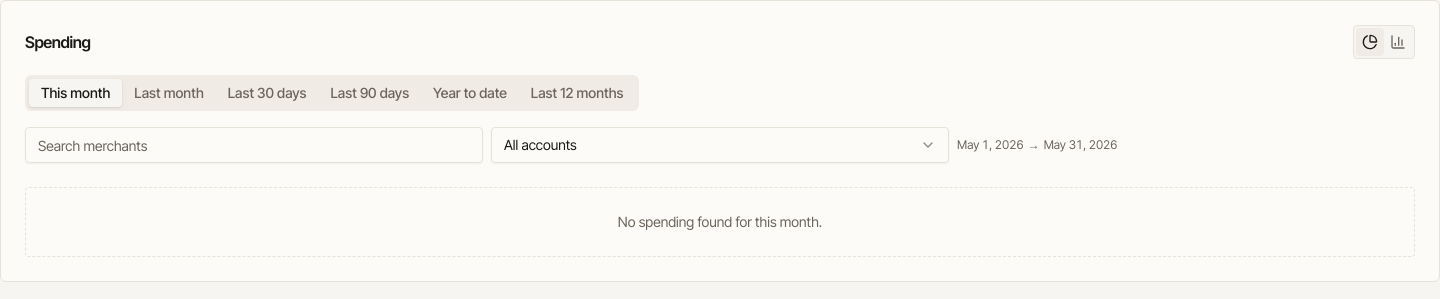
SpendingWidget › switching the range tab recomputes the date bounds
Click the tab "Last 30 days".
click(267, 93)  # box [216,79,319,107]
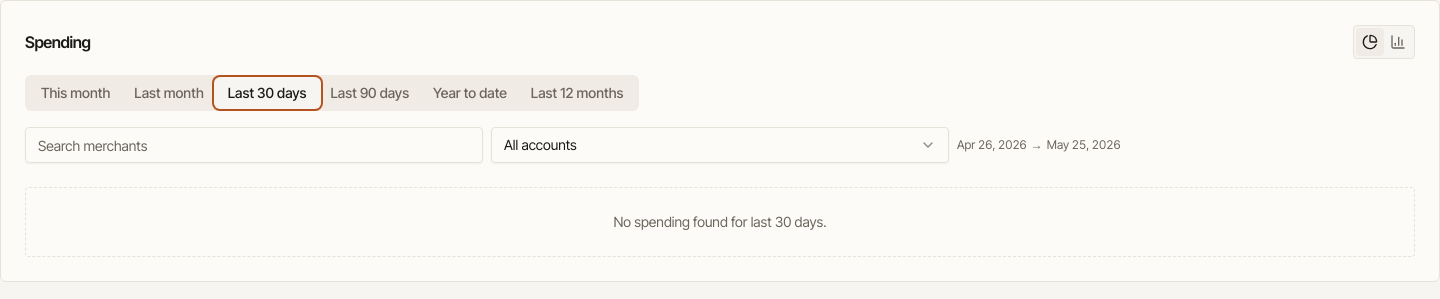
Check: the element with test id "spending-widget-date-bounds" does not show "2026-04-26", box [957,137,1121,152]
Check: the element with test id "spending-widget-date-bounds" shows "Apr 26, 2026", box [957,137,1027,152]
Check: the element with test id "spending-widget-date-bounds" shows "May 25, 2026", box [1047,137,1121,152]
